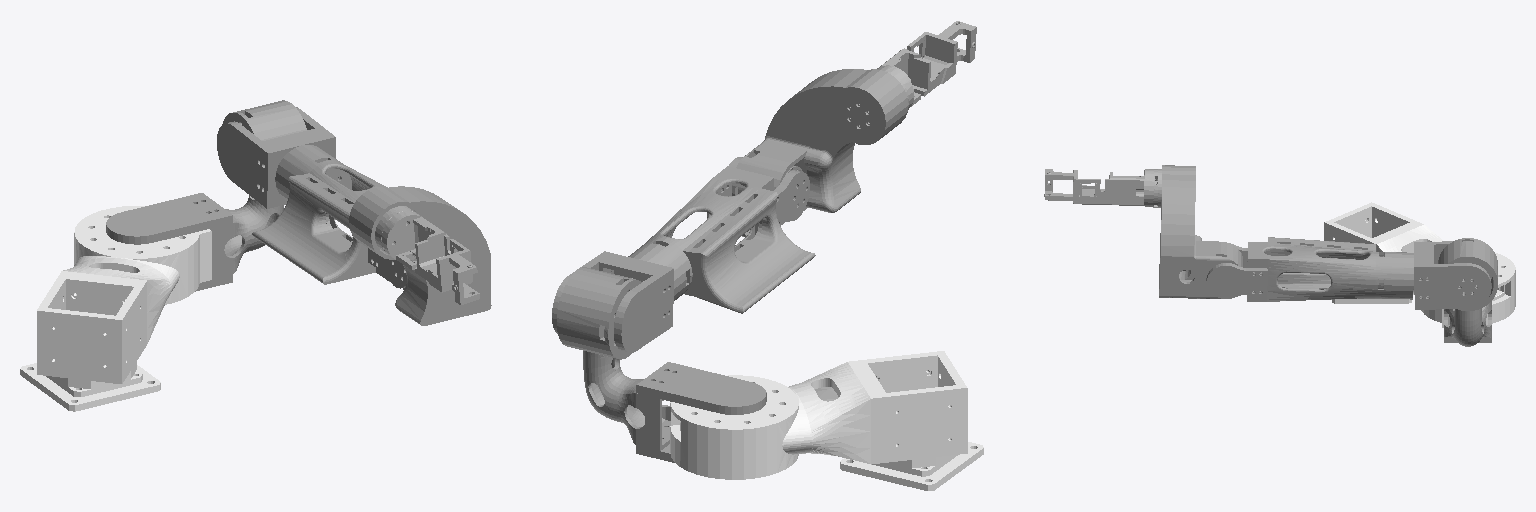
robot.urdf — robot:
<?xml version="1.0" encoding="utf-8"?>
<!-- This URDF was automatically created by SolidWorks to URDF Exporter! Originally created by [author] ([email redacted]) 
     Commit Version: 1.6.0-4-g7f85cfe  Build Version: 1.6.7995.38578
     For more information, please see http://wiki.ros.org/sw_urdf_exporter -->
<robot
  name="robot">
  <link
    name="base_link">
    <inertial>
      <origin
        xyz="0.048985 0.048594 0.055075"
        rpy="0 0 0" />
      <mass
        value="1.0009" />
      <inertia
        ixx="0.0024508"
        ixy="-0.00069044"
        ixz="-7.0953E-05"
        iyy="0.0024996"
        iyz="-7.2847E-05"
        izz="0.0041188" />
    </inertial>
    <visual>
      <origin
        xyz="0 0 0"
        rpy="0 0 0" />
      <geometry>
        <mesh
          filename="package://robot/meshes/base_link.STL" />
      </geometry>
      <material
        name="">
        <color
          rgba="1 1 1 1" />
      </material>
    </visual>
    <collision>
      <origin
        xyz="0 0 0"
        rpy="0 0 0" />
      <geometry>
        <mesh
          filename="package://robot/meshes/base_link.STL" />
      </geometry>
    </collision>
  </link>
  <link
    name="joint1_link">
    <inertial>
      <origin
        xyz="-0.1018 -8.6117E-05 0.068088"
        rpy="0 0 0" />
      <mass
        value="0.26909" />
      <inertia
        ixx="0.00057791"
        ixy="-1.1895E-07"
        ixz="0.00013558"
        iyy="0.00076167"
        iyz="3.7617E-08"
        izz="0.00046295" />
    </inertial>
    <visual>
      <origin
        xyz="0 0 0"
        rpy="0 0 0" />
      <geometry>
        <mesh
          filename="package://robot/meshes/joint1_link.STL" />
      </geometry>
      <material
        name="">
        <color
          rgba="0.69804 0.69804 0.69804 1" />
      </material>
    </visual>
    <collision>
      <origin
        xyz="0 0 0"
        rpy="0 0 0" />
      <geometry>
        <mesh
          filename="package://robot/meshes/joint1_link.STL" />
      </geometry>
    </collision>
  </link>
  <joint
    name="joint1"
    type="revolute">
    <origin
      xyz="0.14284 0.14284 0.0323"
      rpy="0 0 3.1416" />
    <parent
      link="base_link" />
    <child
      link="joint1_link" />
    <axis
      xyz="0 0 -1" />
    <limit
      lower="-3.14"
      upper="3.14"
      effort="100"
      velocity="100" />
  </joint>
  <link
    name="joint2_link">
    <inertial>
      <origin
        xyz="-0.0011074 -0.037784 0.033993"
        rpy="0 0 0" />
      <mass
        value="0.12502" />
      <inertia
        ixx="0.00011269"
        ixy="-1.1025E-06"
        ixz="-5.2045E-09"
        iyy="7.5107E-05"
        iyz="-1.7756E-07"
        izz="0.00014835" />
    </inertial>
    <visual>
      <origin
        xyz="0 0 0"
        rpy="0 0 0" />
      <geometry>
        <mesh
          filename="package://robot/meshes/joint2_link.STL" />
      </geometry>
      <material
        name="">
        <color
          rgba="0.69804 0.69804 0.69804 1" />
      </material>
    </visual>
    <collision>
      <origin
        xyz="0 0 0"
        rpy="0 0 0" />
      <geometry>
        <mesh
          filename="package://robot/meshes/joint2_link.STL" />
      </geometry>
    </collision>
  </link>
  <joint
    name="joint2"
    type="revolute">
    <origin
      xyz="-0.2025 -0.00014966 0.13238"
      rpy="0 -1.5708 3.1416" />
    <parent
      link="joint1_link" />
    <child
      link="joint2_link" />
    <axis
      xyz="0 0 -1" />
    <limit
      lower="-3.14"
      upper="3.14"
      effort="100"
      velocity="100" />
  </joint>
  <link
    name="joint3_link">
    <inertial>
      <origin
        xyz="0.017582 0.0033522 0.11575"
        rpy="0 0 0" />
      <mass
        value="0.4683" />
      <inertia
        ixx="0.0014252"
        ixy="-2.04E-05"
        ixz="-2.6747E-05"
        iyy="0.0014163"
        iyz="-6.2138E-06"
        izz="0.00034162" />
    </inertial>
    <visual>
      <origin
        xyz="0 0 0"
        rpy="0 0 0" />
      <geometry>
        <mesh
          filename="package://robot/meshes/joint3_link.STL" />
      </geometry>
      <material
        name="">
        <color
          rgba="0.69804 0.69804 0.69804 1" />
      </material>
    </visual>
    <collision>
      <origin
        xyz="0 0 0"
        rpy="0 0 0" />
      <geometry>
        <mesh
          filename="package://robot/meshes/joint3_link.STL" />
      </geometry>
    </collision>
  </link>
  <joint
    name="joint3"
    type="revolute">
    <origin
      xyz="-0.0023436 -0.079966 0.03425"
      rpy="1.6001 -1.5708 0" />
    <parent
      link="joint2_link" />
    <child
      link="joint3_link" />
    <axis
      xyz="0 0 -1" />
    <limit
      lower="-3.14"
      upper="3.14"
      effort="100"
      velocity="100" />
  </joint>
  <link
    name="joint4_link">
    <inertial>
      <origin
        xyz="0.020006 -0.031386 -0.0095063"
        rpy="0 0 0" />
      <mass
        value="0.31246" />
      <inertia
        ixx="0.00059768"
        ixy="9.222E-05"
        ixz="-0.00019694"
        iyy="0.0008237"
        iyz="8.0958E-05"
        izz="0.00070818" />
    </inertial>
    <visual>
      <origin
        xyz="0 0 0"
        rpy="0 0 0" />
      <geometry>
        <mesh
          filename="package://robot/meshes/joint4_link.STL" />
      </geometry>
      <material
        name="">
        <color
          rgba="0.69804 0.69804 0.69804 1" />
      </material>
    </visual>
    <collision>
      <origin
        xyz="0 0 0"
        rpy="0 0 0" />
      <geometry>
        <mesh
          filename="package://robot/meshes/joint4_link.STL" />
      </geometry>
    </collision>
  </link>
  <joint
    name="joint4"
    type="revolute">
    <origin
      xyz="0.0297 0 0.2883"
      rpy="-1.5708 0.029299 -1.5708" />
    <parent
      link="joint3_link" />
    <child
      link="joint4_link" />
    <axis
      xyz="0 0 -1" />
    <limit
      lower="-3.14"
      upper="3.14"
      effort="100"
      velocity="100" />
  </joint>
  <link
    name="joint5_link">
    <inertial>
      <origin
        xyz="0.0010802 0.0014003 -0.05791"
        rpy="0 0 0" />
      <mass
        value="0.18765" />
      <inertia
        ixx="0.00021071"
        ixy="1.1509E-06"
        ixz="-6.7694E-06"
        iyy="0.00020882"
        iyz="7.5439E-06"
        izz="7.3356E-05" />
    </inertial>
    <visual>
      <origin
        xyz="0 0 0"
        rpy="0 0 0" />
      <geometry>
        <mesh
          filename="package://robot/meshes/joint5_link.STL" />
      </geometry>
      <material
        name="">
        <color
          rgba="0.75294 0.75294 0.75294 1" />
      </material>
    </visual>
    <collision>
      <origin
        xyz="0 0 0"
        rpy="0 0 0" />
      <geometry>
        <mesh
          filename="package://robot/meshes/joint5_link.STL" />
      </geometry>
    </collision>
  </link>
  <joint
    name="joint5"
    type="revolute">
    <origin
      xyz="0.088527 -0.051566 0.0617"
      rpy="-1.5482 1.5708 -0.0066939" />
    <parent
      link="joint4_link" />
    <child
      link="joint5_link" />
    <axis
      xyz="0 0 -1" />
    <limit
      lower="-3.14"
      upper="3.14"
      effort="100"
      velocity="100" />
  </joint>
</robot>

--- Facts derived from the render (not from the file) ---
Views: 3 orthographic renders of the robot side by side, from view 1: azimuth 30°, elevation 25°; view 2: azimuth 150°, elevation 25°; view 3: azimuth 270°, elevation 25°.
Model robot with 6 links and 5 joints (5 revolute), rooted at base_link, posed every joint at zero.
Links seen in each view (by area): view 1: base_link, joint3_link, joint1_link, joint4_link, joint5_link, joint2_link; view 2: base_link, joint3_link, joint1_link, joint4_link, joint2_link, joint5_link; view 3: joint3_link, joint4_link, base_link, joint2_link, joint1_link, joint5_link.
Boxes of the visible links, left/top/right/bottom form: base_link: left=20, top=206, right=211, bottom=411; joint3_link: left=252, top=145, right=406, bottom=288; joint1_link: left=106, top=100, right=306, bottom=291; joint4_link: left=349, top=186, right=491, bottom=325; joint5_link: left=375, top=206, right=479, bottom=304; joint2_link: left=217, top=107, right=335, bottom=208; base_link: left=670, top=351, right=983, bottom=490; joint3_link: left=628, top=157, right=815, bottom=313; joint1_link: left=557, top=267, right=766, bottom=462; joint4_link: left=732, top=69, right=908, bottom=221; joint2_link: left=552, top=251, right=673, bottom=352; joint5_link: left=877, top=21, right=976, bottom=109; joint3_link: left=1206, top=237, right=1413, bottom=301; joint4_link: left=1159, top=165, right=1243, bottom=298; base_link: left=1324, top=202, right=1515, bottom=327; joint2_link: left=1414, top=241, right=1491, bottom=309; joint1_link: left=1438, top=238, right=1497, bottom=346; joint5_link: left=1044, top=169, right=1161, bottom=207.
Bounding box of the posed robot: 0.4261 × 0.7005 × 0.2984 m (x, y, z).
6 mesh visuals loaded from 6 distinct referenced files (6 binary STL).